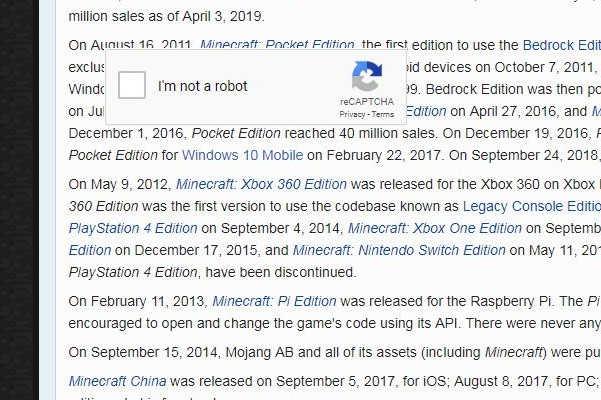captcha: (118, 70, 248, 99)
